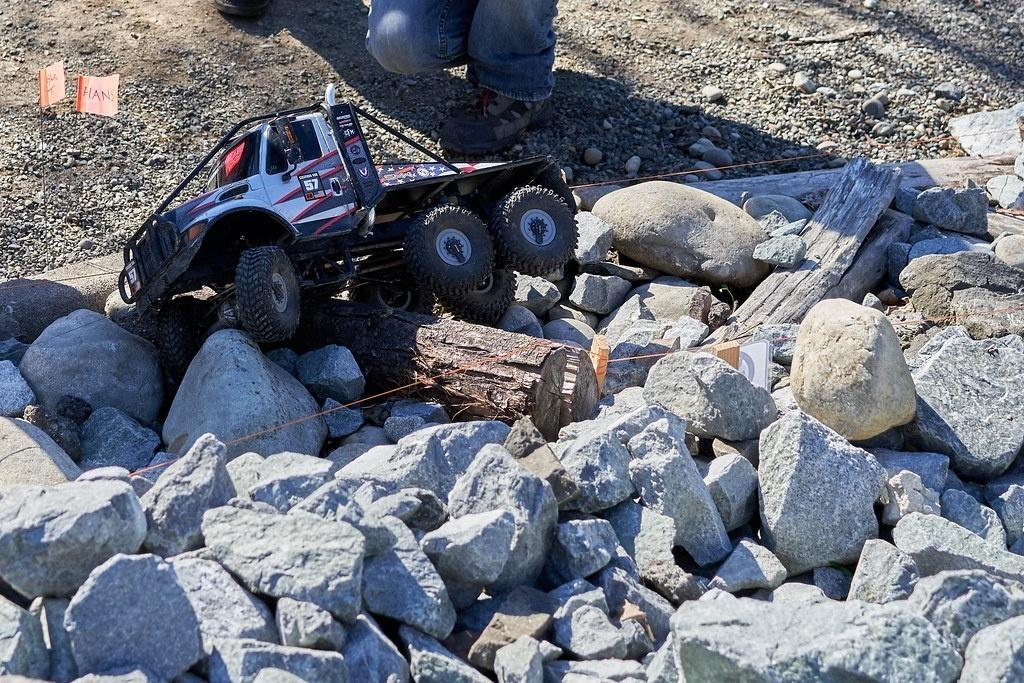Car: (102, 87, 630, 367)
